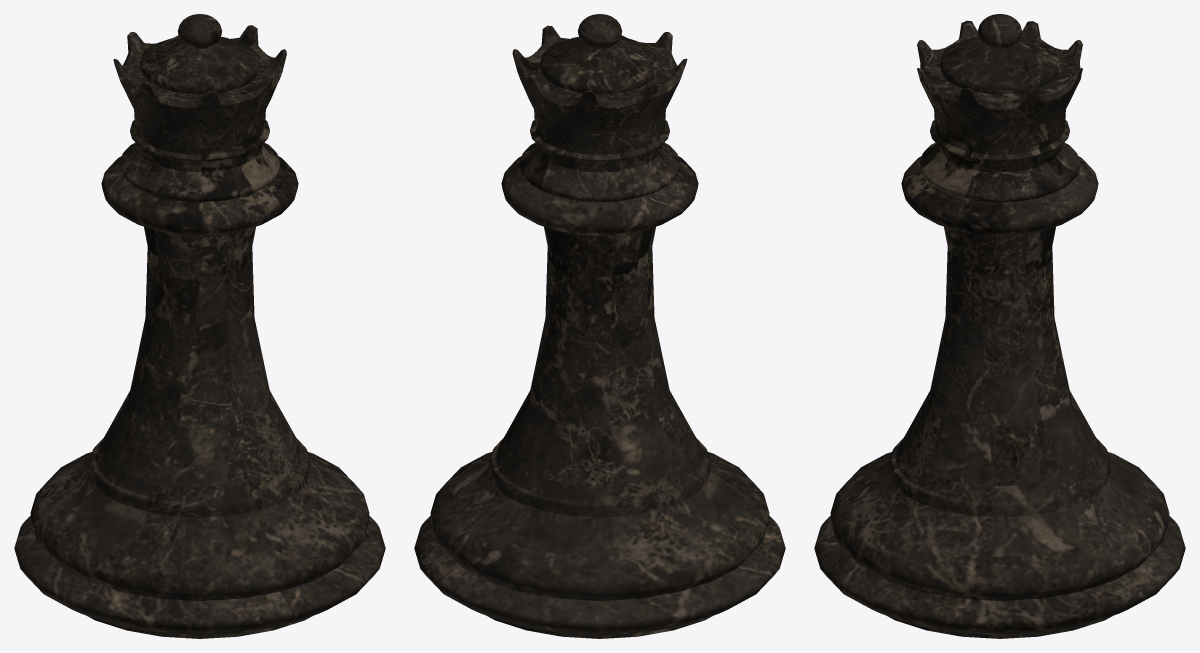
The model's file is mermer_q_b.glb.
The picture shows the model from 3 angles, left to right: view 1: azimuth 30°, elevation 25°; view 2: azimuth 150°, elevation 25°; view 3: azimuth 270°, elevation 25°; orthographic projection.
Parts seen in each view (by area): view 1: SM_Queen1; view 2: SM_Queen1; view 3: SM_Queen1.
Part boxes in pixels (box(x1,y1,x2,y2)): SM_Queen1: box(14, 14, 385, 638); SM_Queen1: box(414, 14, 785, 638); SM_Queen1: box(814, 14, 1185, 638).
Bounding box in the file's own units: 4.33 × 7.17 × 4.31.
1 material, 1 textured.
